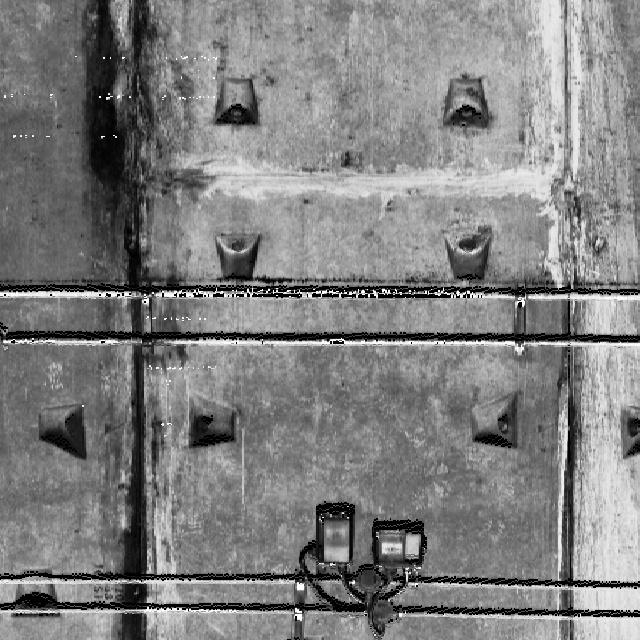leakage: (64, 0, 187, 634)
